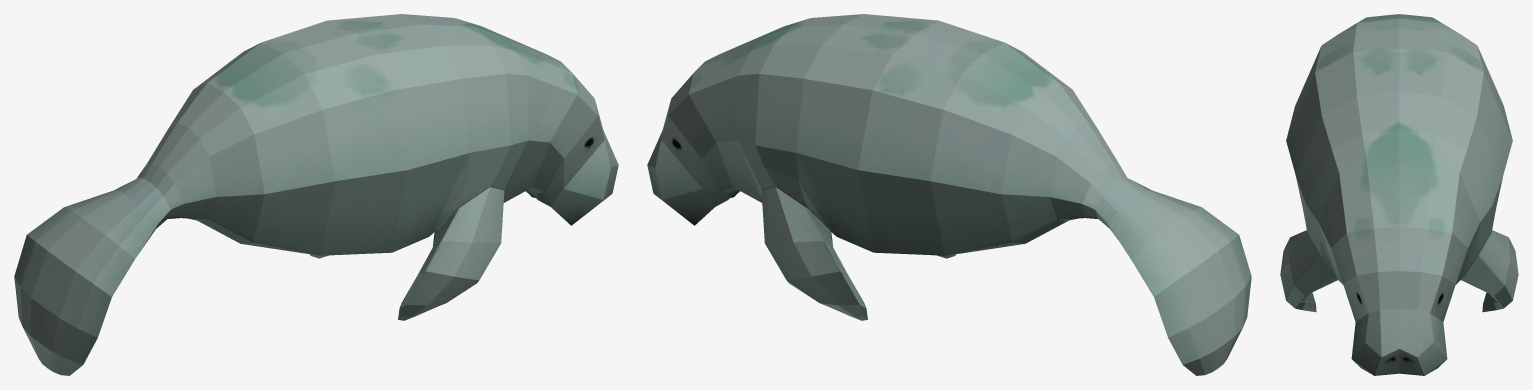
The model's file is animals-manatee-145.glb.
3 views of the same model, side by side, from view 1: azimuth 30°, elevation 25°; view 2: azimuth 150°, elevation 25°; view 3: azimuth 270°, elevation 25° (orthographic).
Parts seen in each view (by area): view 1: Manatees_mesh; view 2: Manatees_mesh; view 3: Manatees_mesh.
Boxes of the visible parts, bbox=[...] form: Manatees_mesh: bbox=[14, 14, 618, 375]; Manatees_mesh: bbox=[647, 14, 1251, 375]; Manatees_mesh: bbox=[1280, 14, 1518, 375].
Bounding box in the file's own units: 10.18 × 4.45 × 3.75.
Materials: 1 (1 with a texture image).
